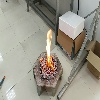fire: (39, 28, 54, 73)
